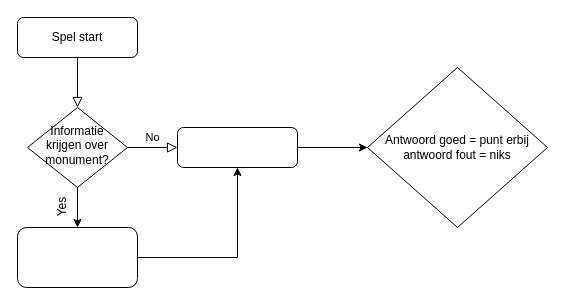
This 565x305 diagram has some shape labels left out. Each missing label, with the centre of its shape:
Spel geeft meerkeuze vraag: [237,147]
Spel geeft uitleg over het monument: [77,257]
